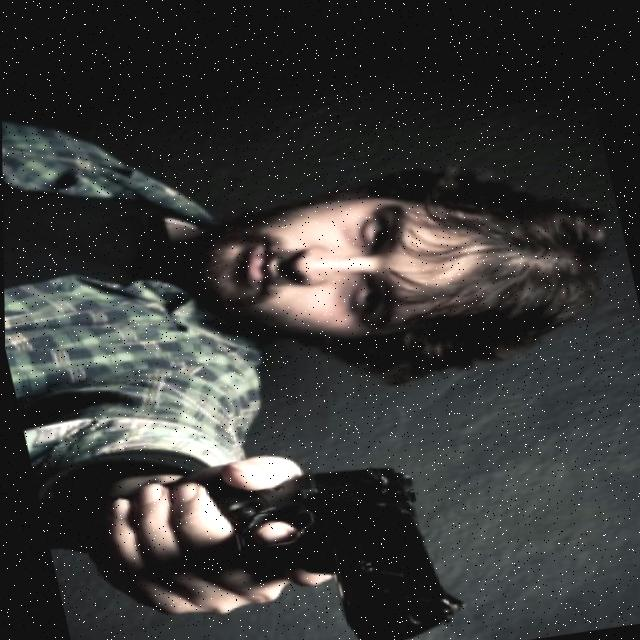pistol: (200, 432, 478, 640)
